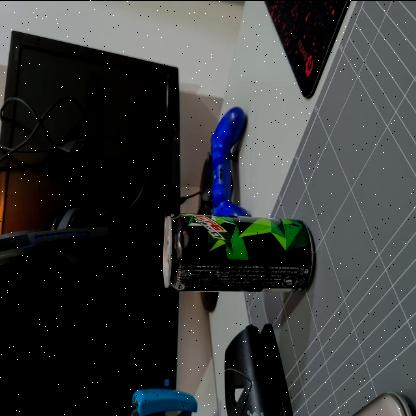Can: (164, 214, 314, 291)
